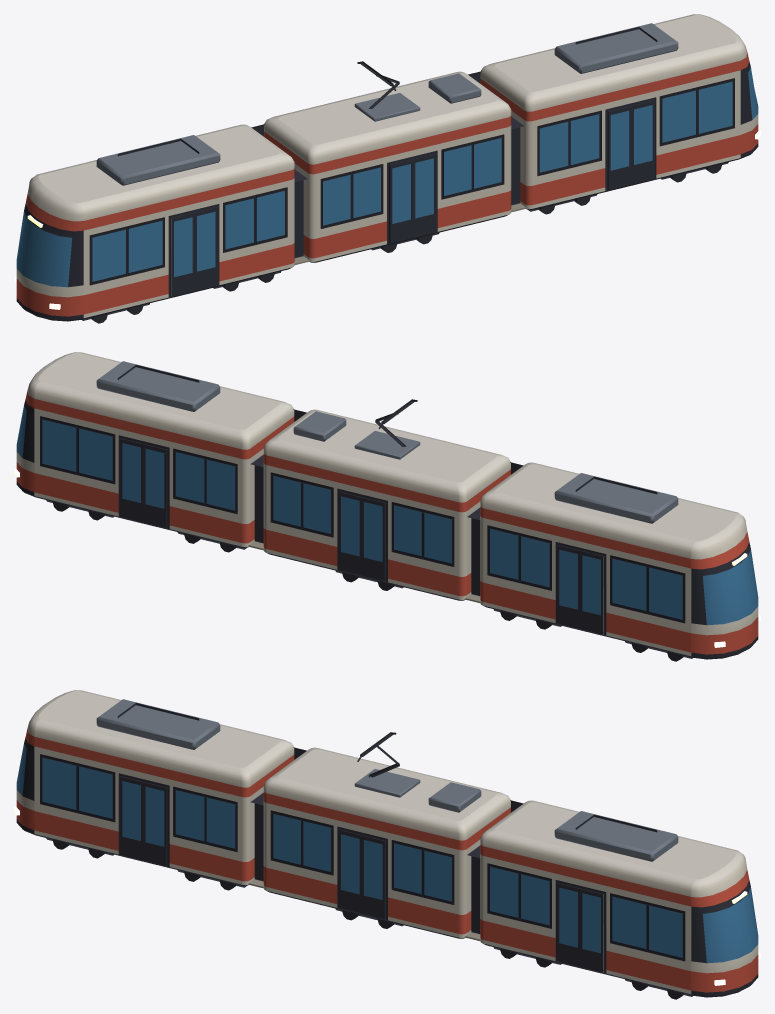
File: tram.glb
The picture shows the model from 3 angles, top to bottom: view 1: azimuth 30°, elevation 25°; view 2: azimuth 150°, elevation 25°; view 3: azimuth 330°, elevation 25°; orthographic projection.
Visible parts, largest first — view 1: roof, body, door_right_1_aft, door_right_2_aft, door_right_1_fore, door_right_0_fore, door_right_0_aft, door_right_2_fore; view 2: roof, body, door_left_1_aft, door_left_2_aft, door_left_1_fore, door_left_0_fore, door_left_0_aft, door_left_2_fore; view 3: roof, body, door_right_1_fore, door_right_0_fore, door_right_1_aft, door_right_2_aft, door_right_2_fore, door_right_0_aft.
Boxes of the visible parts, <box> form: roof: <box>24,14,750,237</box>; body: <box>14,67,760,323</box>; door_right_1_aft: <box>389,159,413,243</box>; door_right_2_aft: <box>171,212,194,296</box>; door_right_1_fore: <box>413,153,436,237</box>; door_right_0_fore: <box>631,100,654,184</box>; door_right_0_aft: <box>608,106,631,189</box>; door_right_2_fore: <box>194,207,217,290</box>; roof: <box>24,352,750,575</box>; body: <box>14,405,760,661</box>; door_left_1_aft: <box>361,497,385,581</box>; door_left_2_aft: <box>580,550,603,634</box>; door_left_1_fore: <box>338,491,361,575</box>; door_left_0_fore: <box>120,438,143,522</box>; door_left_0_aft: <box>143,444,166,527</box>; door_left_2_fore: <box>557,545,580,628</box>; roof: <box>24,690,750,913</box>; body: <box>14,743,760,999</box>; door_right_1_fore: <box>361,835,385,919</box>; door_right_0_fore: <box>580,888,603,972</box>; door_right_1_aft: <box>338,829,361,913</box>; door_right_2_aft: <box>120,776,143,860</box>; door_right_2_fore: <box>143,782,166,865</box>; door_right_0_aft: <box>557,883,580,966</box>.
Bounding box in the file's own units: 20.5 × 4.39 × 2.52.
